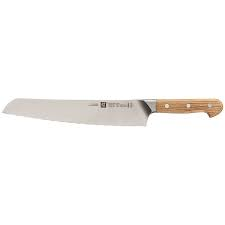knife: (1, 96, 225, 129)
